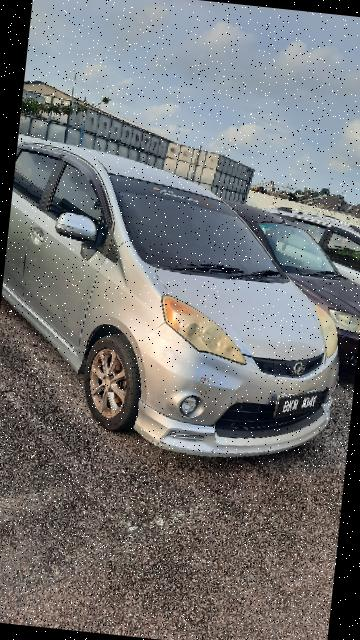License_Plate: (264, 377, 339, 430)
car: (1, 139, 360, 470)
